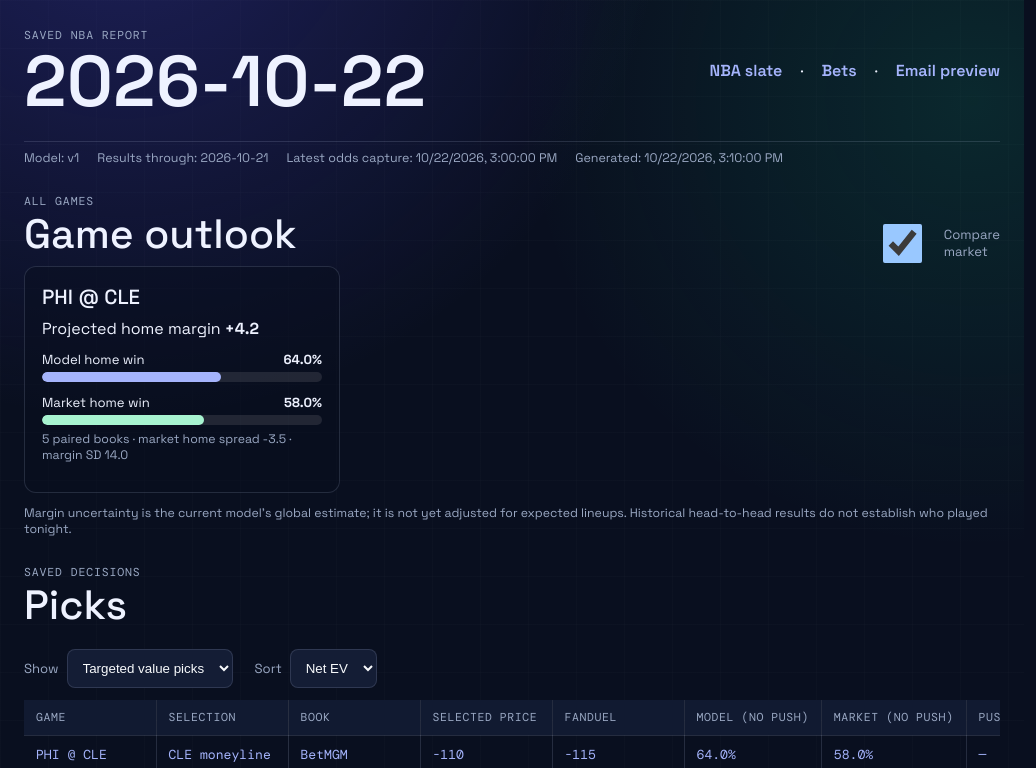
NbaReportPage › compares saved model and market probabilities and filters saved picks
Expected: the heading "PHI @ CLE" is shown, [42,284,140,310]
Expected: the text "Market home win" is shown, [42,394,150,411]
Click the checkbox labelled "Compare market" at (903, 243), box [872,224,933,263]
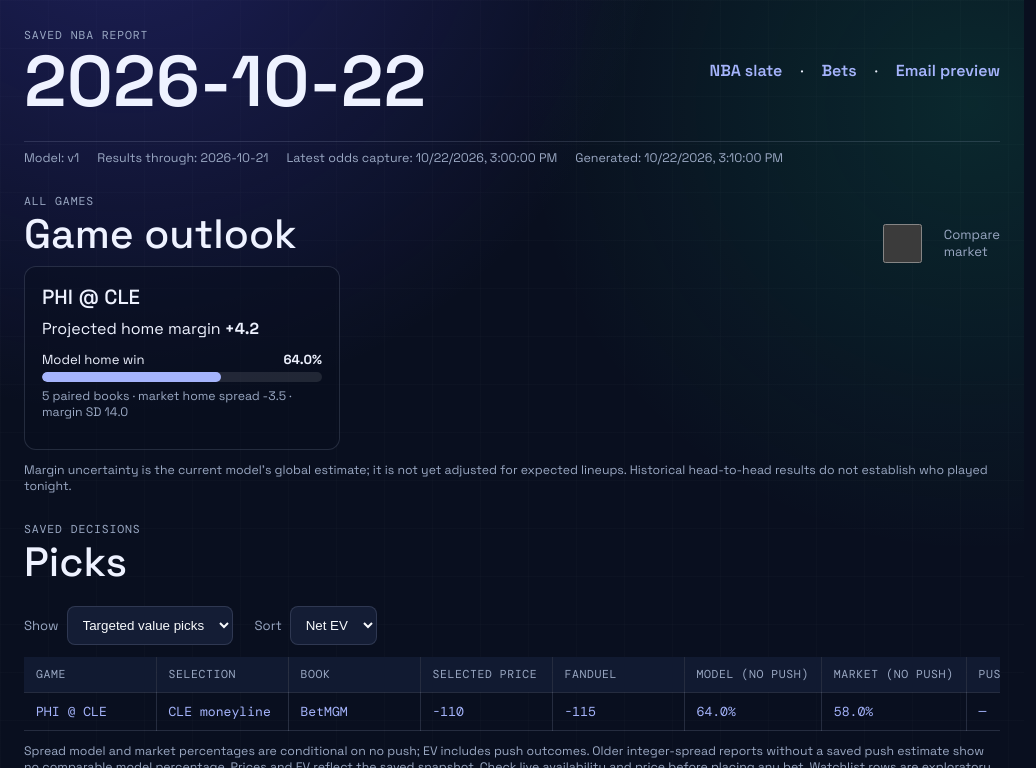
Now the text "Market home win" is gone
Select "Spread watchlist" in the dropdown labelled "Show" at (150, 625), box [66,606,232,645]
(page scrolled)
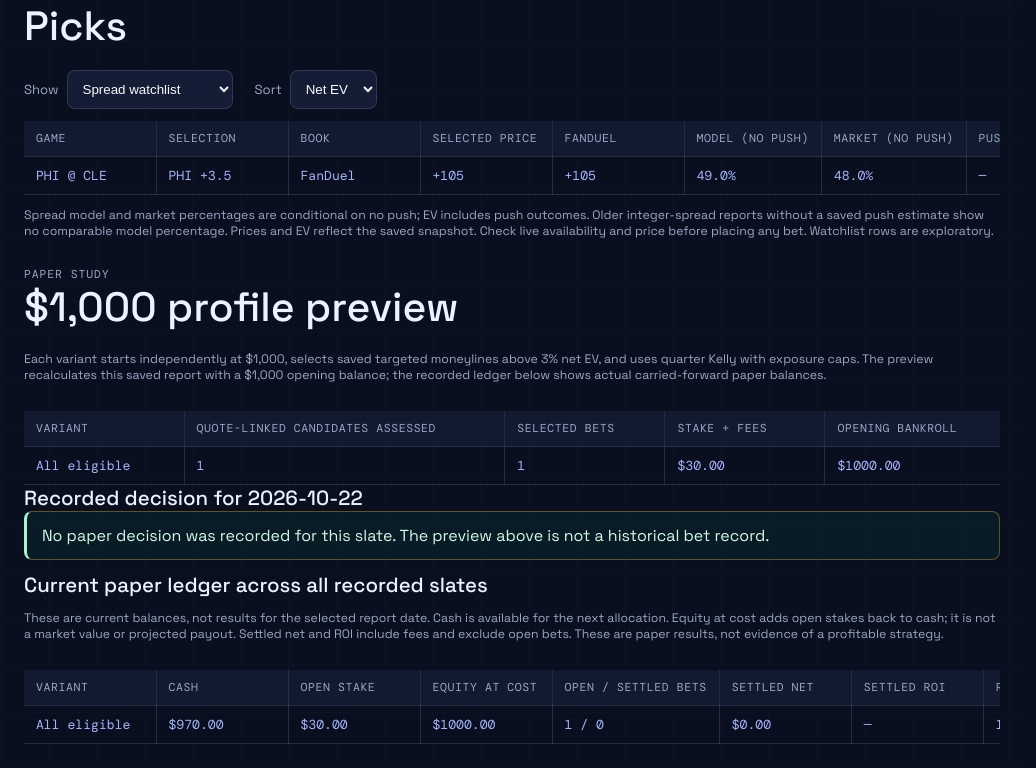
Now the text "All eligible" is shown 2 times, box [24,446,184,484]; [24,706,156,744]
Now the text "$970.00" is shown, box [156,706,288,744]
Now the text "PHI +3.5" is shown, box [156,156,288,194]
